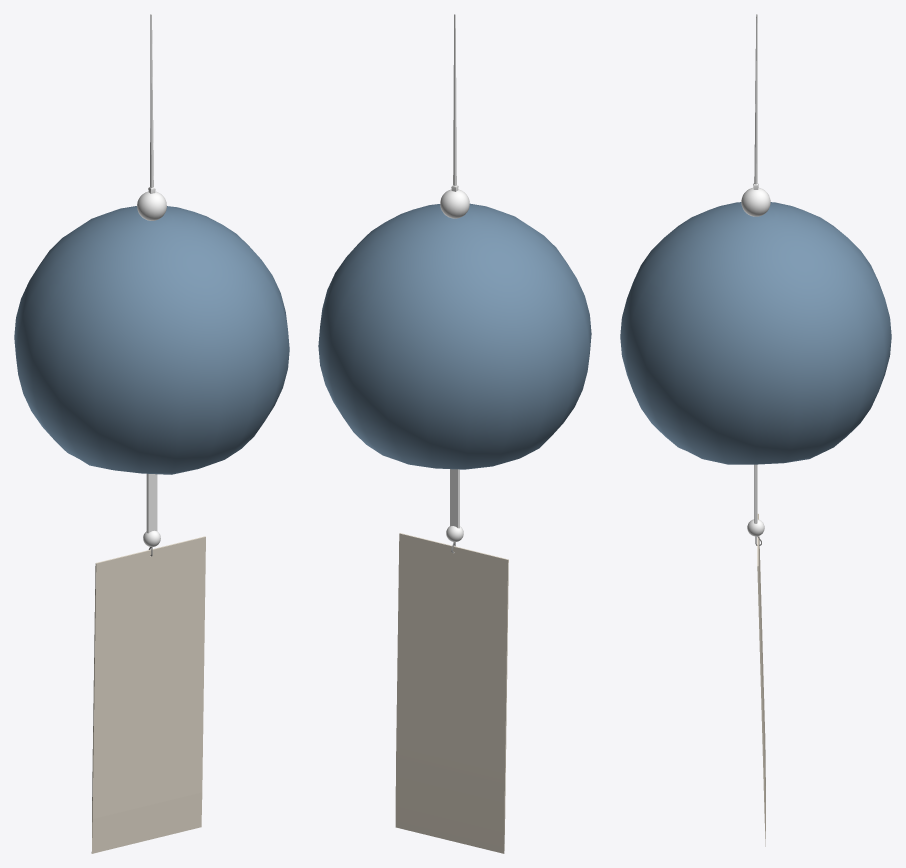
The model's file is huurin.fbx.
The picture shows the model from 3 angles, left to right: view 1: azimuth 30°, elevation 25°; view 2: azimuth 150°, elevation 25°; view 3: azimuth 270°, elevation 25°; orthographic projection. The views are drawn at different scales.
Parts seen in each view (by area): view 1: pSphere6; view 2: pSphere6; view 3: pSphere6.
Boxes of the visible parts, x1=… form: pSphere6: x1=14, y1=14, x2=289, y2=853; pSphere6: x1=318, y1=14, x2=591, y2=853; pSphere6: x1=620, y1=14, x2=891, y2=846.
Size of the model in its own units: 2 by 6.61 by 2.
